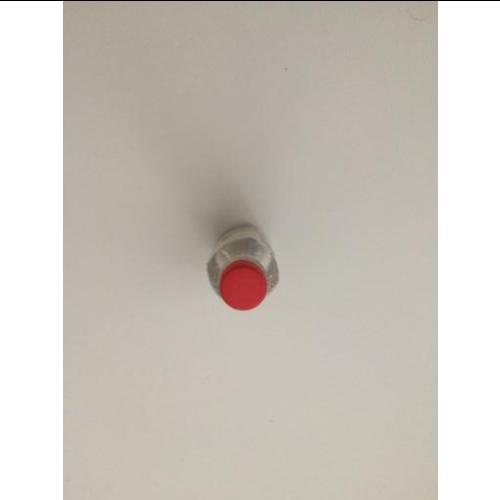plastic: (204, 224, 281, 313)
